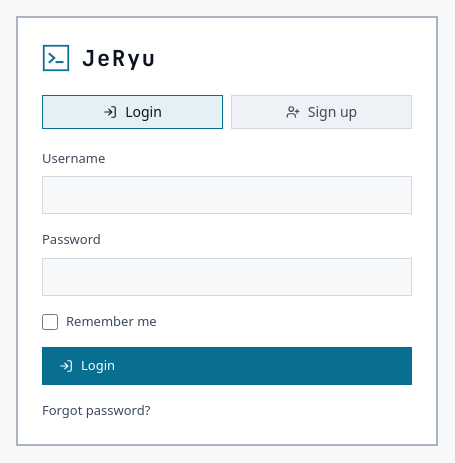
Scenario: AuthPage › switches tabs from Login to Sign up
Click the tab "Sign up".
click(322, 112)  # box [231,95,412,129]
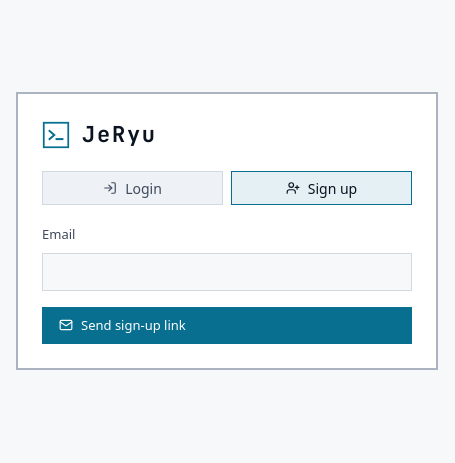
Now the button "Send sign-up link" is shown, box [42,306,412,344]
Click the tab "Login".
click(132, 188)  # box [42,171,223,205]
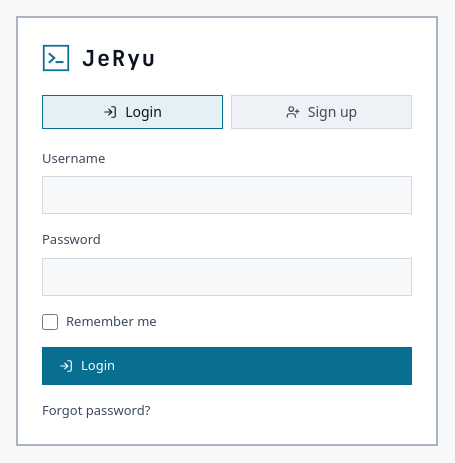
Now the button "Login" is shown, box [42,347,412,385]
